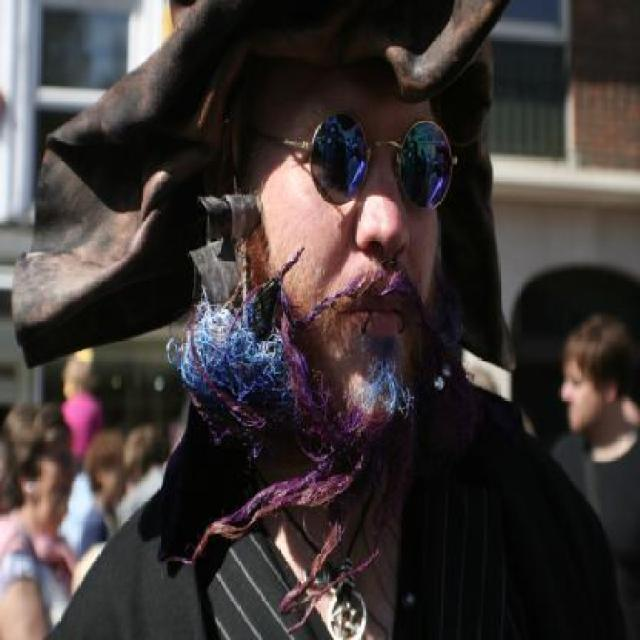face_nomask: (286, 116, 449, 370)
glasses: (259, 112, 467, 232)
